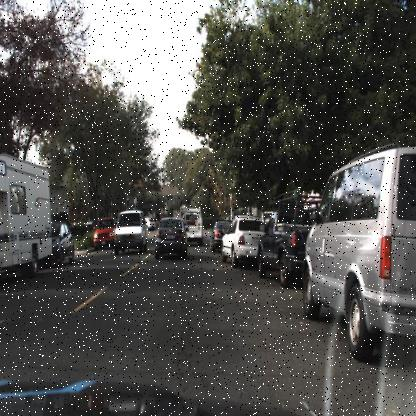car: (299, 140, 415, 362), (0, 147, 52, 278), (256, 184, 314, 288), (219, 215, 264, 268), (112, 204, 146, 255), (48, 216, 76, 271), (152, 216, 188, 258), (178, 201, 205, 243), (50, 221, 75, 262), (209, 218, 231, 258)
truck: (0, 159, 52, 270), (180, 204, 204, 240)
